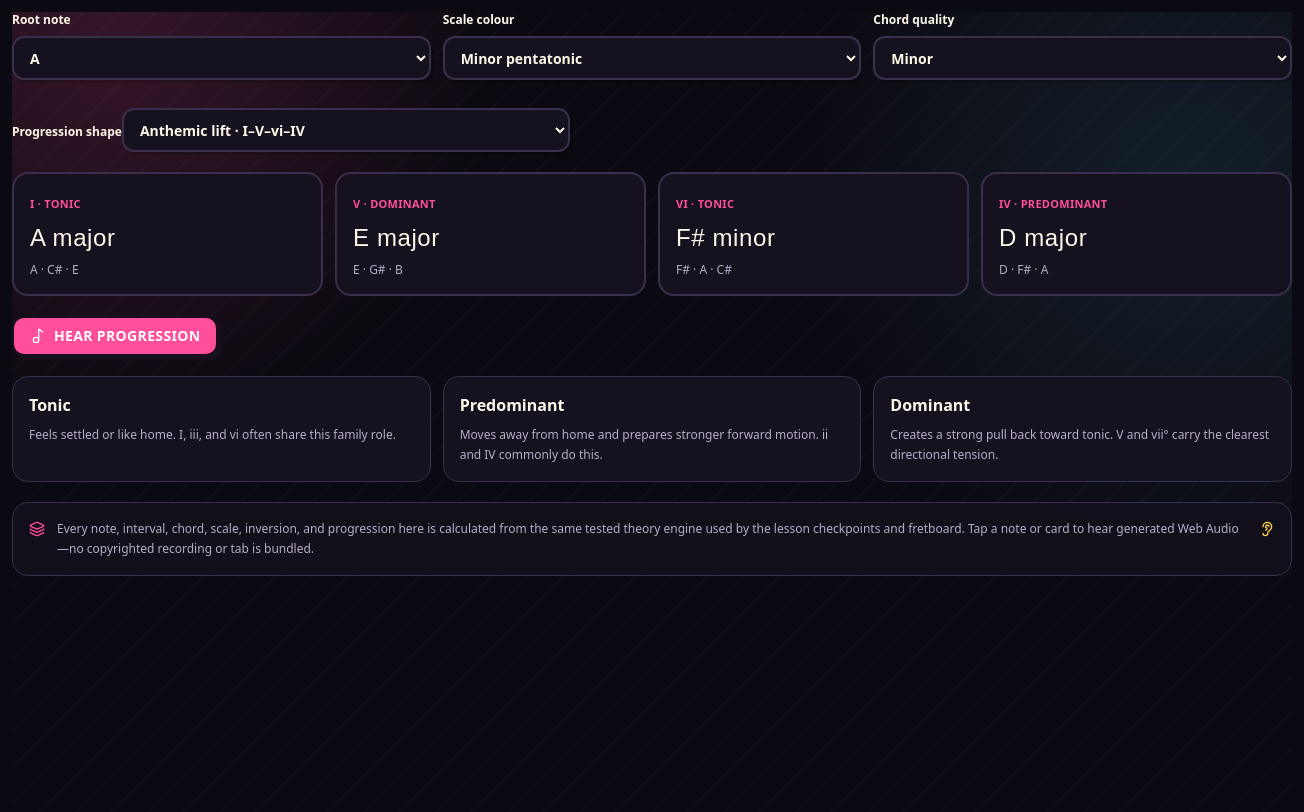
Test case: HarmonyWorkbench › transposes Roman-numeral progressions when the key changes
Expected: the text "E major" is shown, [353,224,440,251]
Select "C" in the dropdown labelled "Root note" at point(221, 58), box [12,36,431,80]
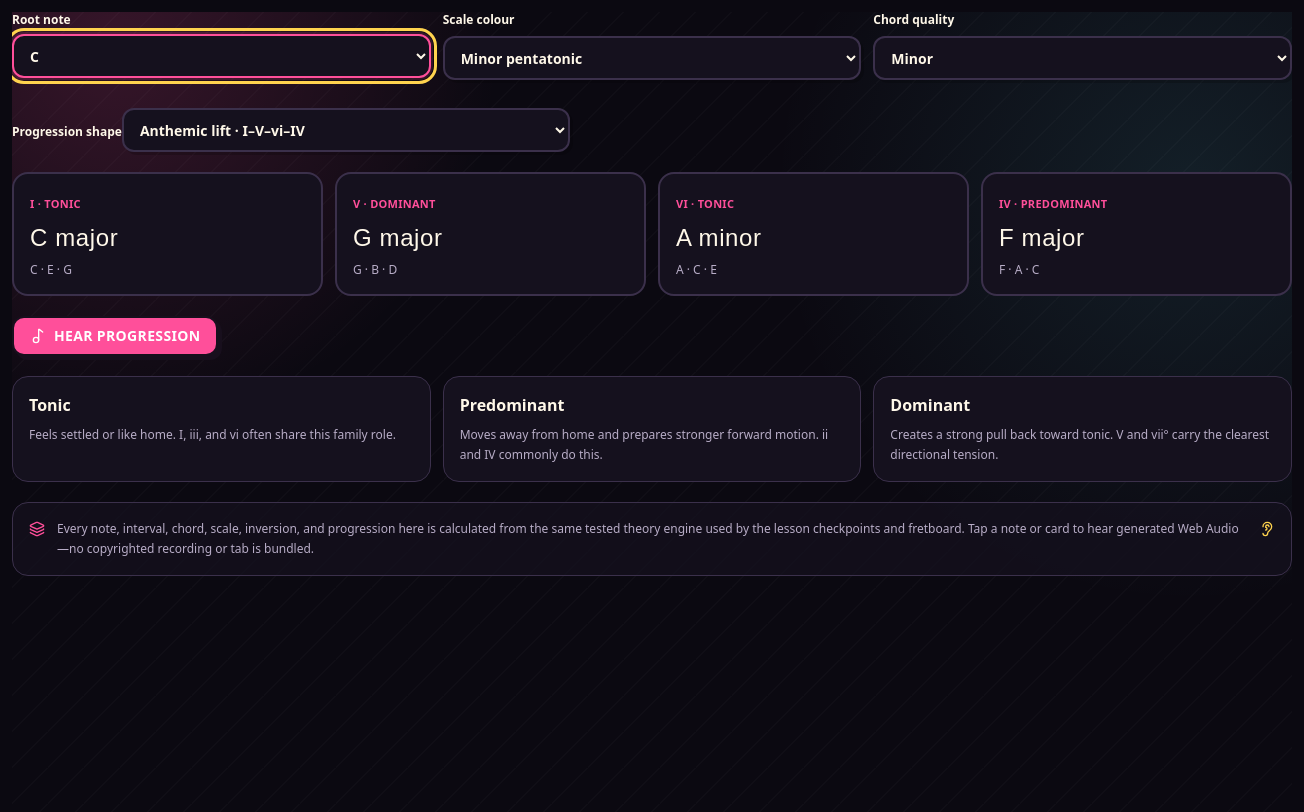
Expected: the text "G major" is shown, [353,224,443,251]
Expected: the text "A minor" is shown, [676,224,762,251]
Expected: the text "F major" is shown, [999,224,1085,251]
